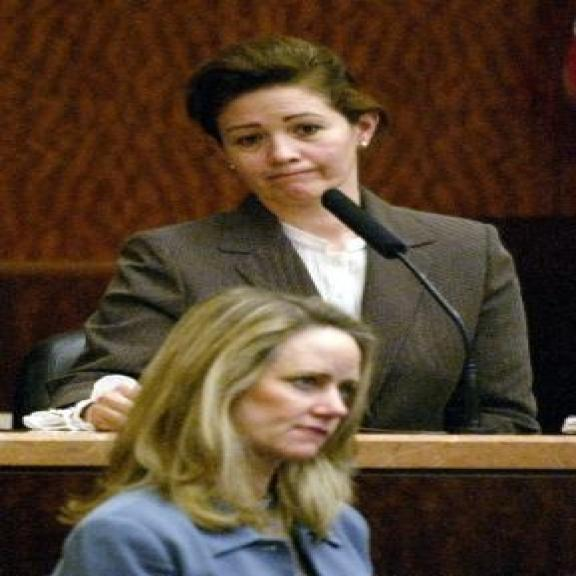face: (206, 83, 392, 208), (224, 322, 369, 465)
